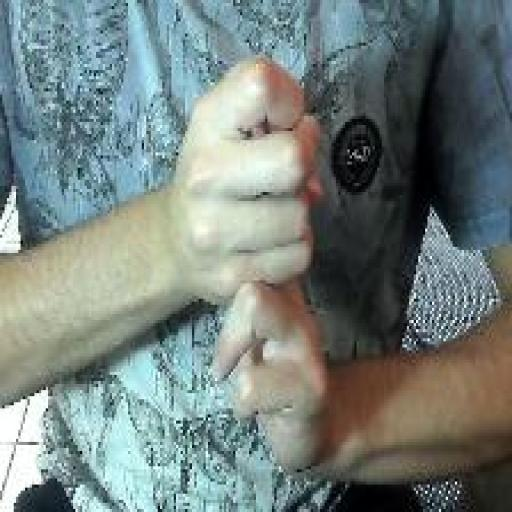Ne -rat-: (170, 50, 337, 480)
